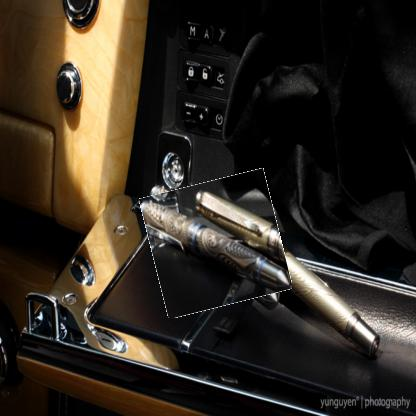Pen: (145, 176, 287, 312)
